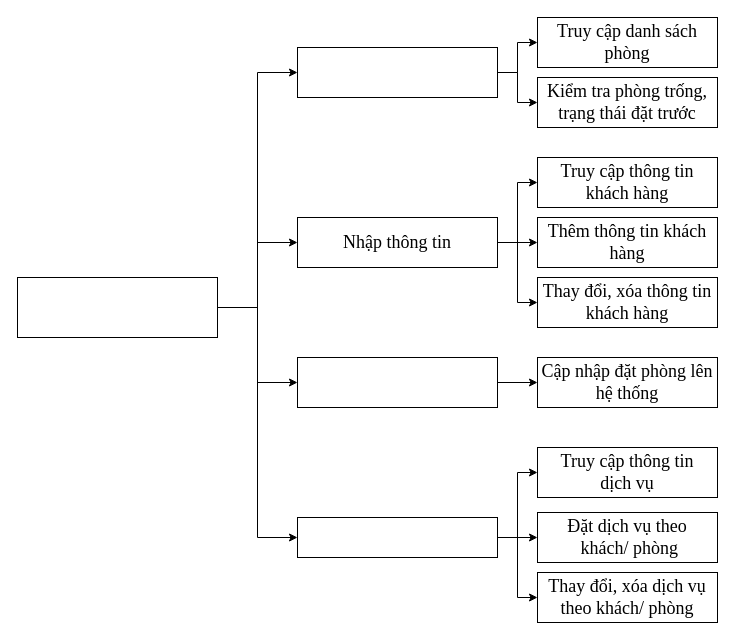
The diagram is 735 pixels wide and 640 high, and some of its shapes have lost their labels. Here are the shapes that lost their labels. From the top down, the centre of each, then its label:
At [397,72]: "Kiểm tra phòng".
At [117,307]: "Lễ tân".
At [397,382]: "Đặt phòng".
At [397,537]: "Nhập dịch vụ".
